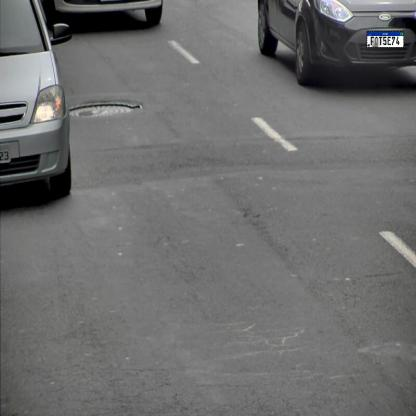PlacaM: (367, 31, 404, 48)
